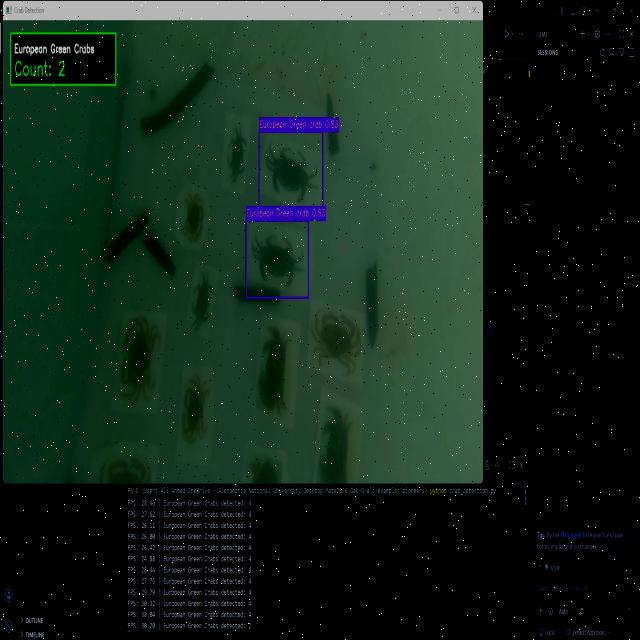European_Green_Crab: (260, 137, 319, 208), (247, 225, 303, 296), (186, 265, 217, 334), (221, 123, 248, 186)
